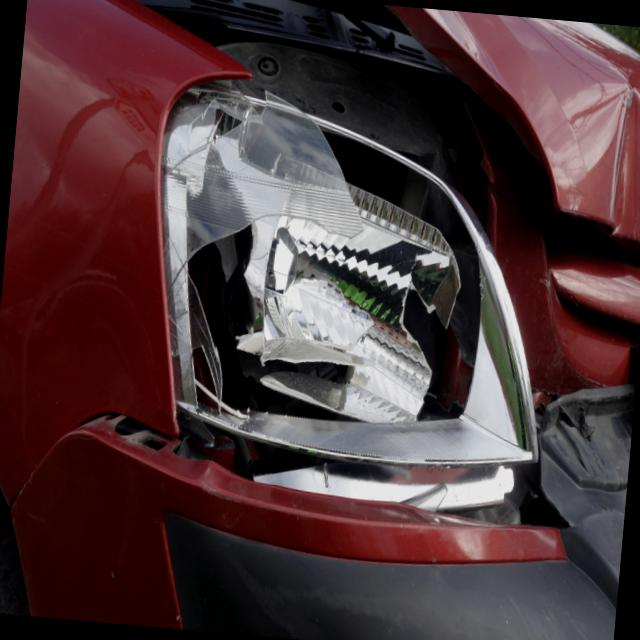Dechirure: (4, 392, 180, 551)
Phare abime: (145, 81, 549, 506)
